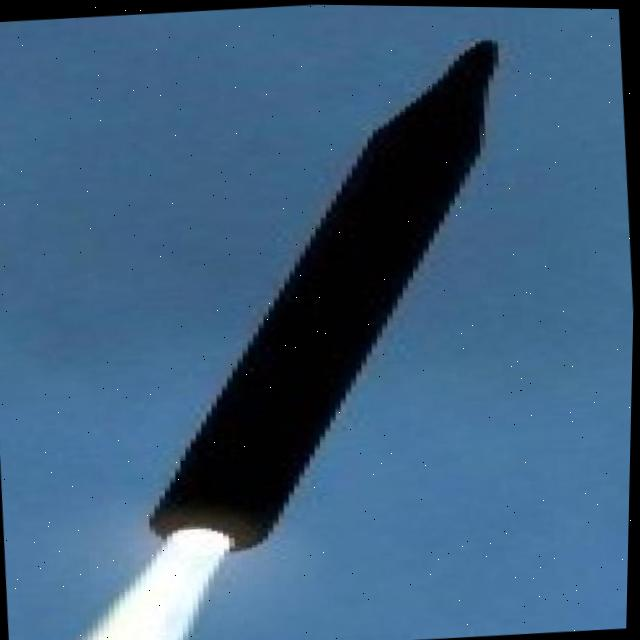missile: (116, 32, 536, 564)
